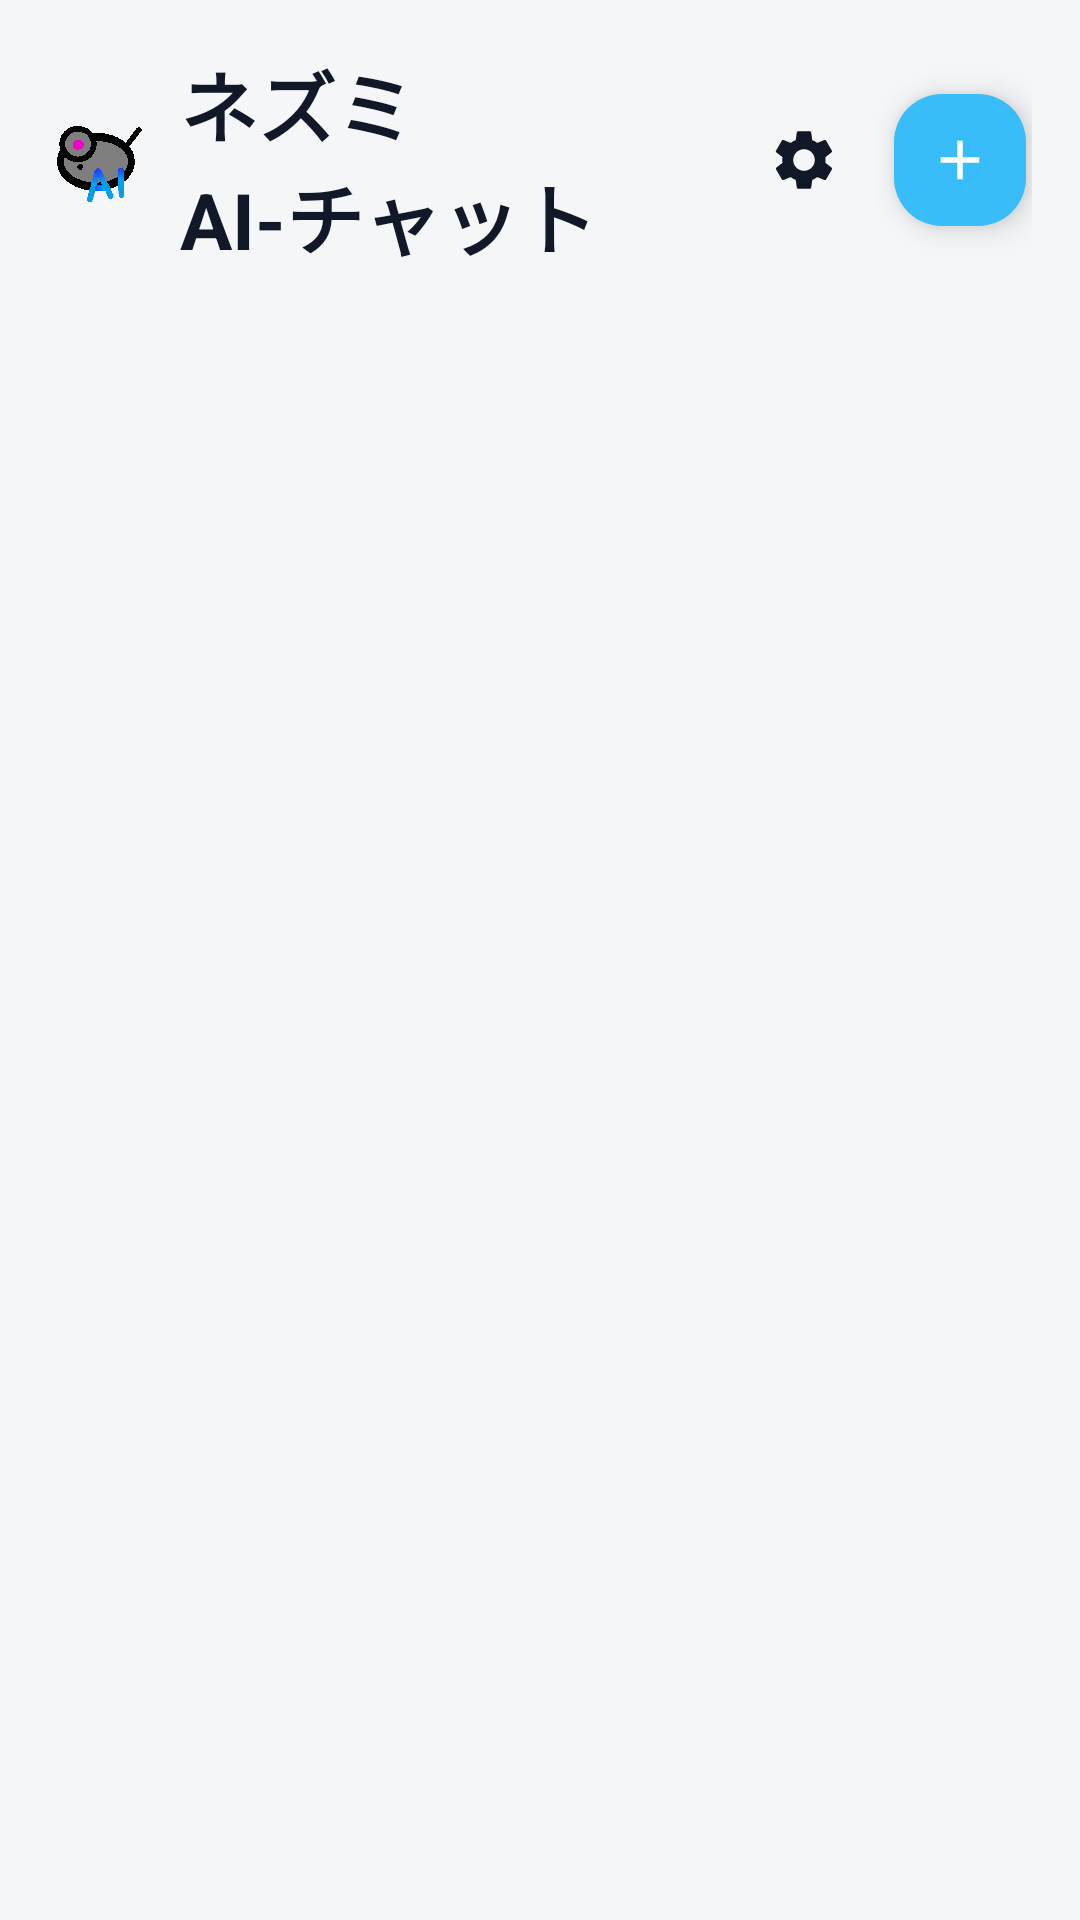

Icon click points for this 1080 × 1920 phone screenshot, format (x=x, y=y):
app: (x=99, y=164)
新規セッション: (x=961, y=160)
設定: (x=803, y=160)
